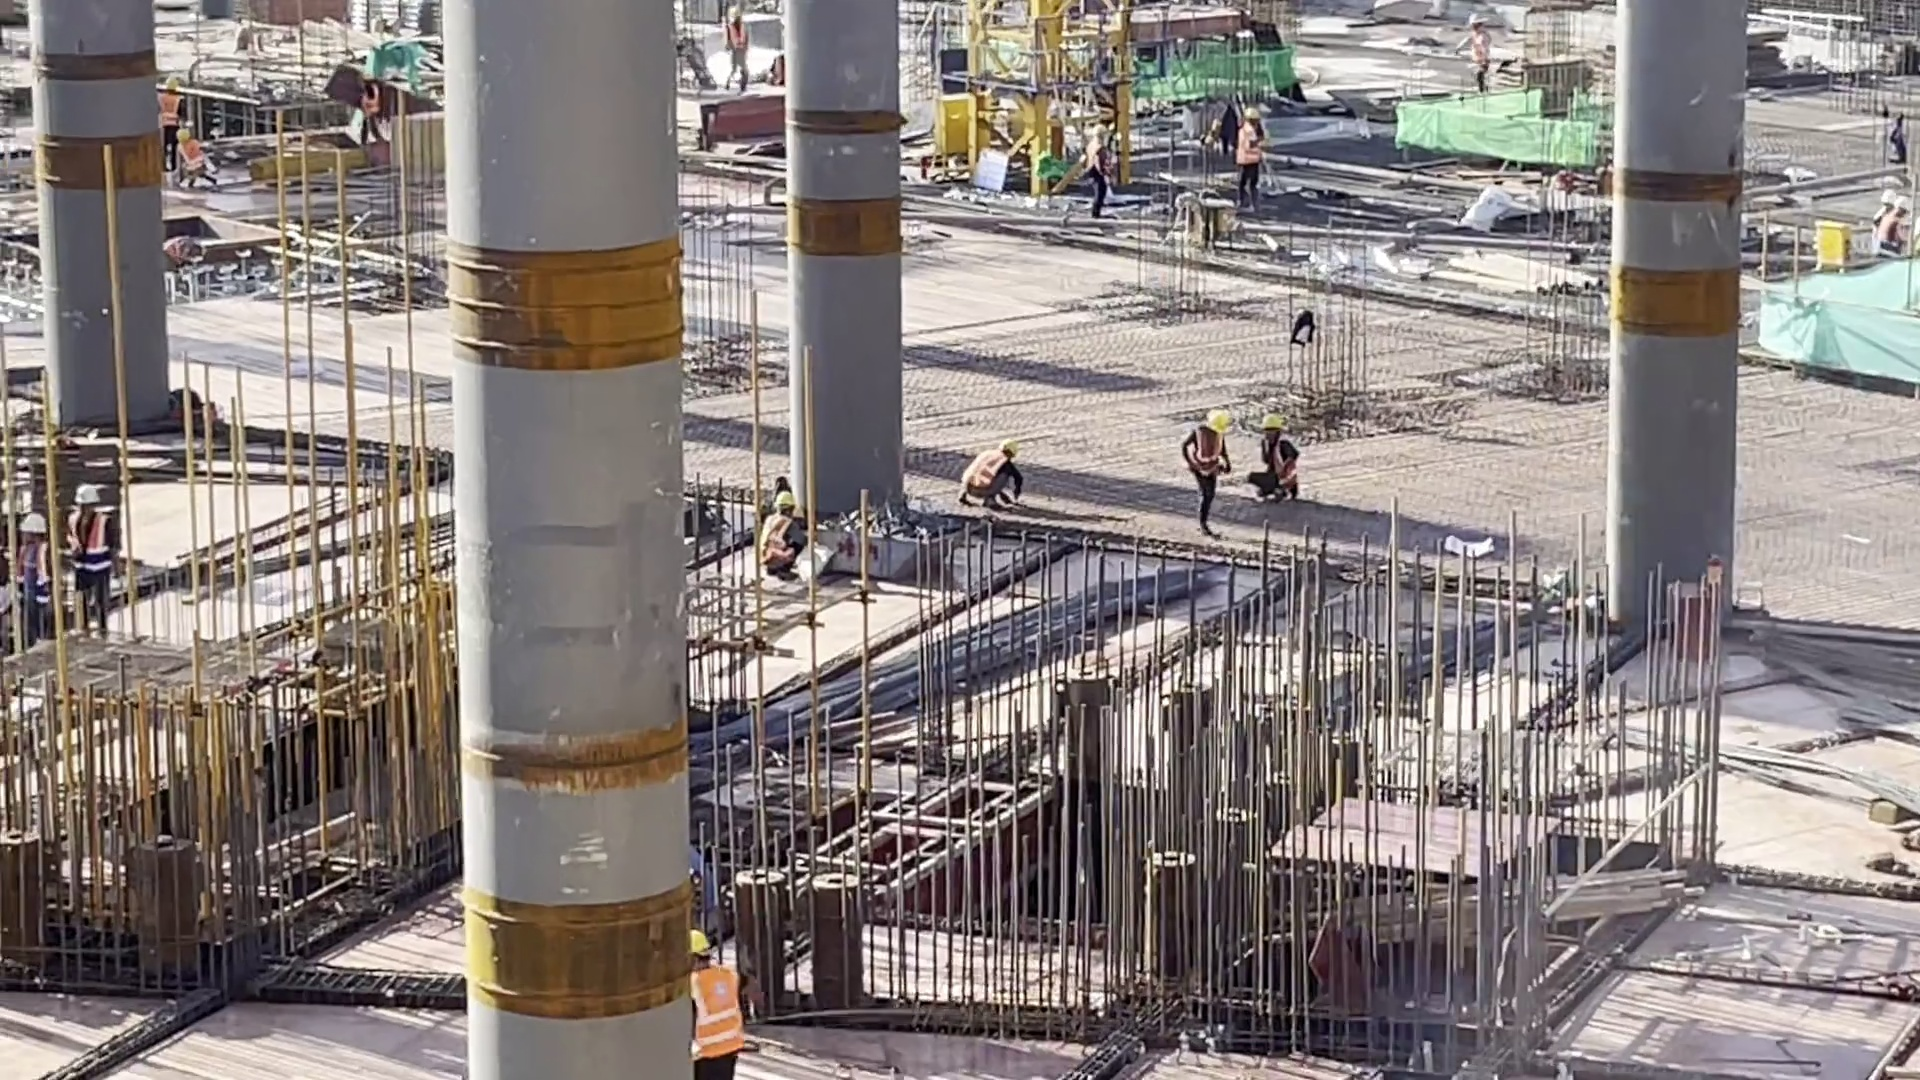helmet: (682, 927, 724, 953), (65, 481, 100, 511), (1198, 402, 1230, 431), (1261, 407, 1286, 430), (23, 508, 48, 529), (994, 433, 1018, 452), (1244, 105, 1259, 122)
person: (55, 483, 123, 641), (663, 930, 740, 1065), (948, 412, 1021, 522), (1177, 400, 1234, 533), (1, 513, 52, 639), (1249, 400, 1297, 512), (763, 493, 819, 574), (1233, 91, 1267, 219), (1075, 109, 1111, 208), (166, 127, 217, 193), (719, 6, 758, 89), (1878, 174, 1910, 267), (354, 64, 385, 153)
vest: (676, 972, 745, 1067), (1185, 429, 1234, 485), (70, 509, 113, 560), (761, 512, 793, 559), (1256, 435, 1290, 479), (174, 134, 201, 163)
